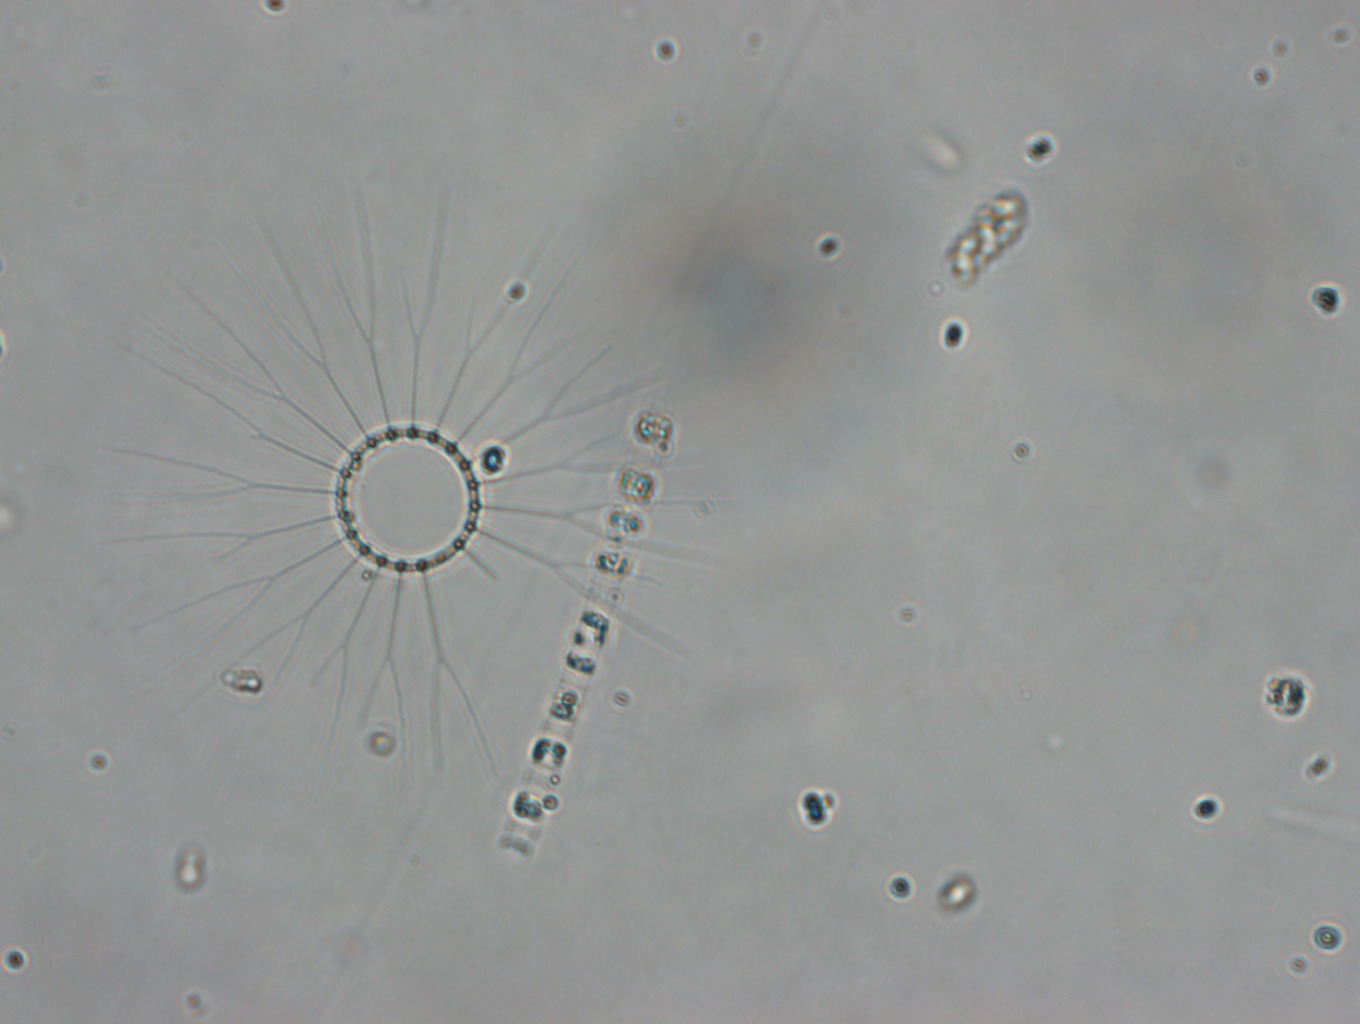bacteriastrum: (129, 210, 691, 730)
skeletonema: (487, 398, 673, 865)
